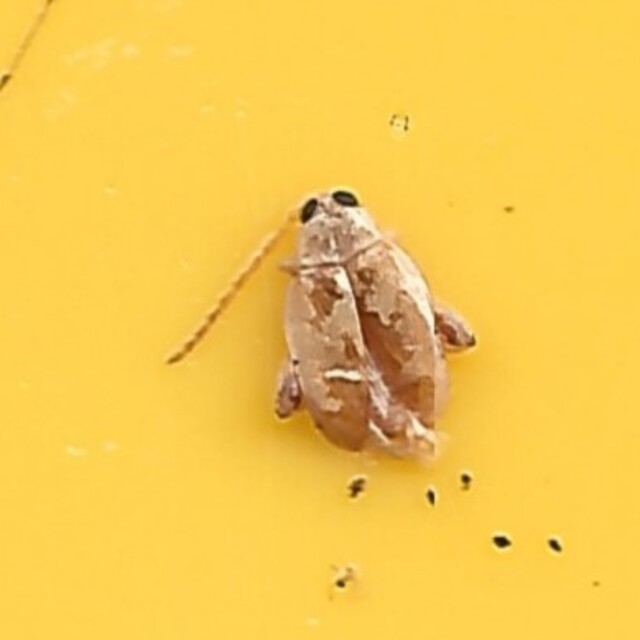Coleoptera: (165, 180, 475, 460)
